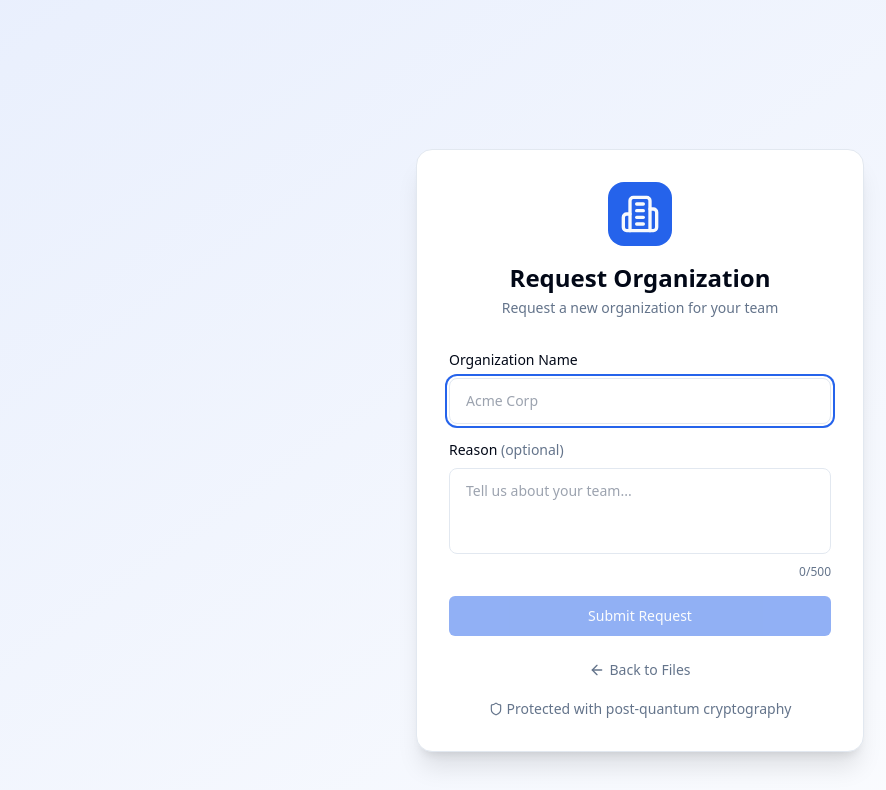
TenantRequestPage › form submission › should show reviewer message after success
This screenshot has width=886, height=790.
In the field with placeholder "Acme Corp": (640, 400) [449,378,831,424], type "Test Org"
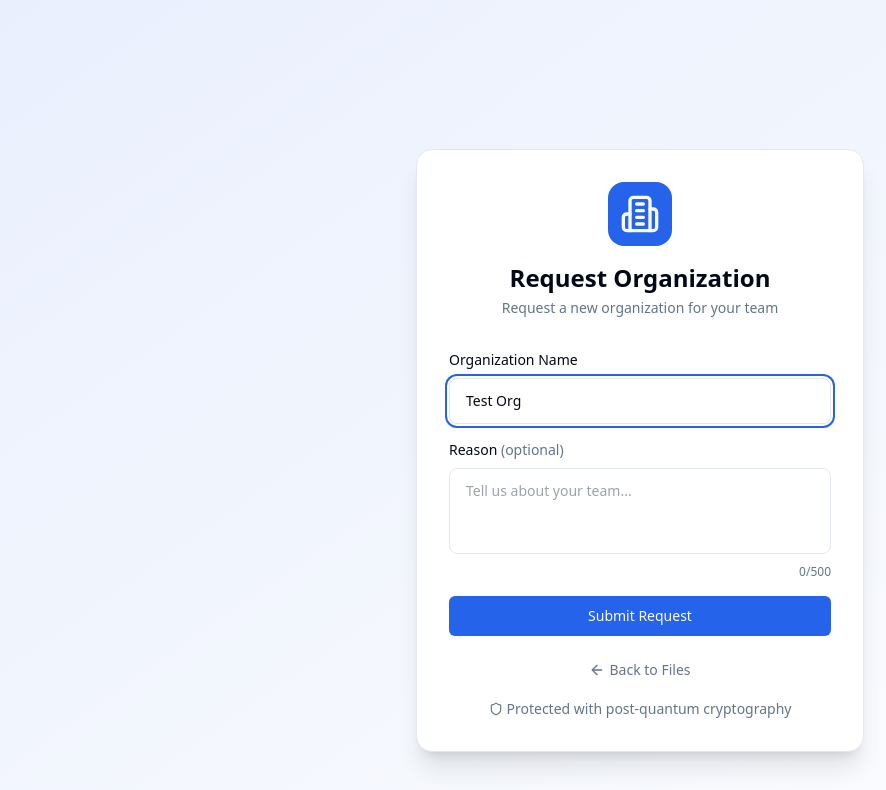
Click the button "Submit Request": (640, 616) [449,596,831,636]
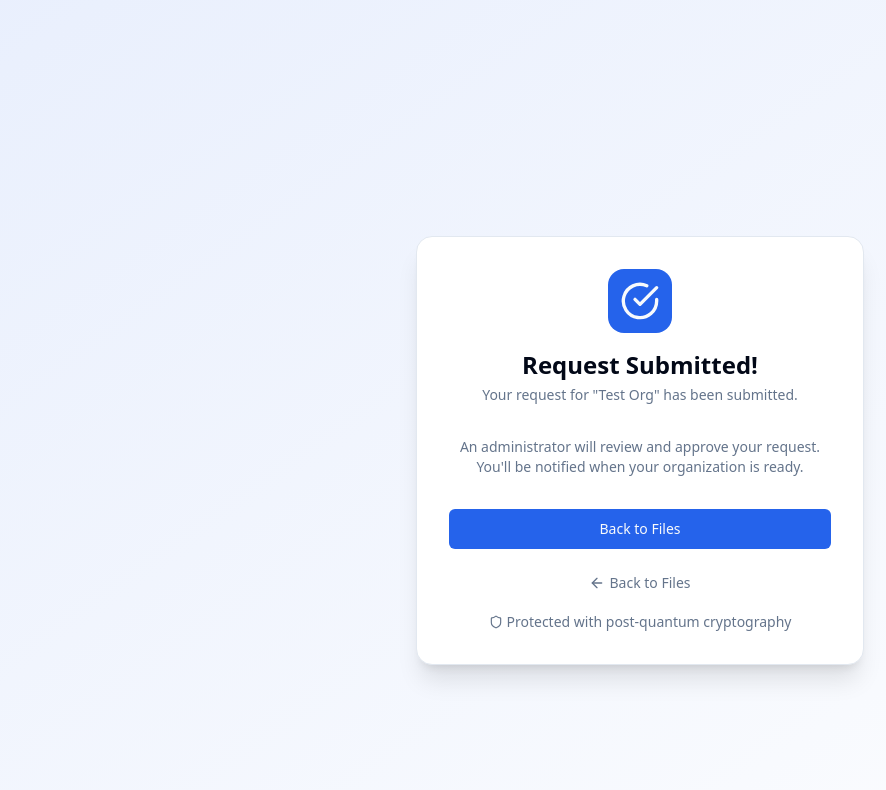
Now the text "An administrator will review and approve your request" is shown, box [460,436,820,476]
